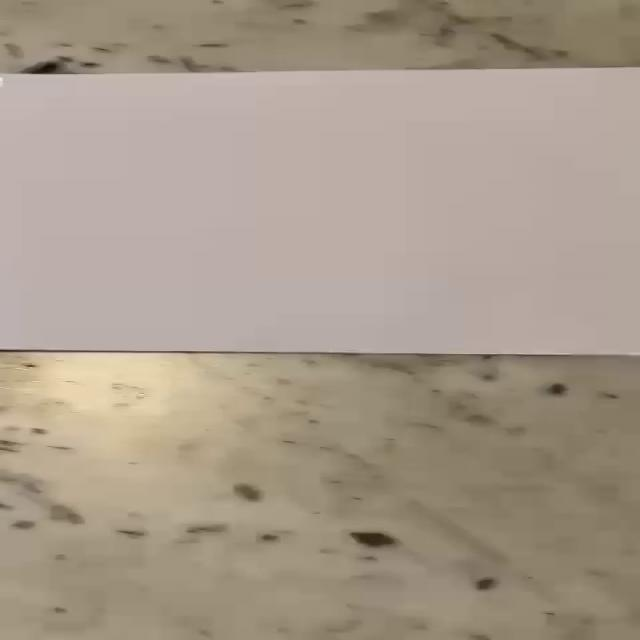road: (1, 68, 639, 355)
